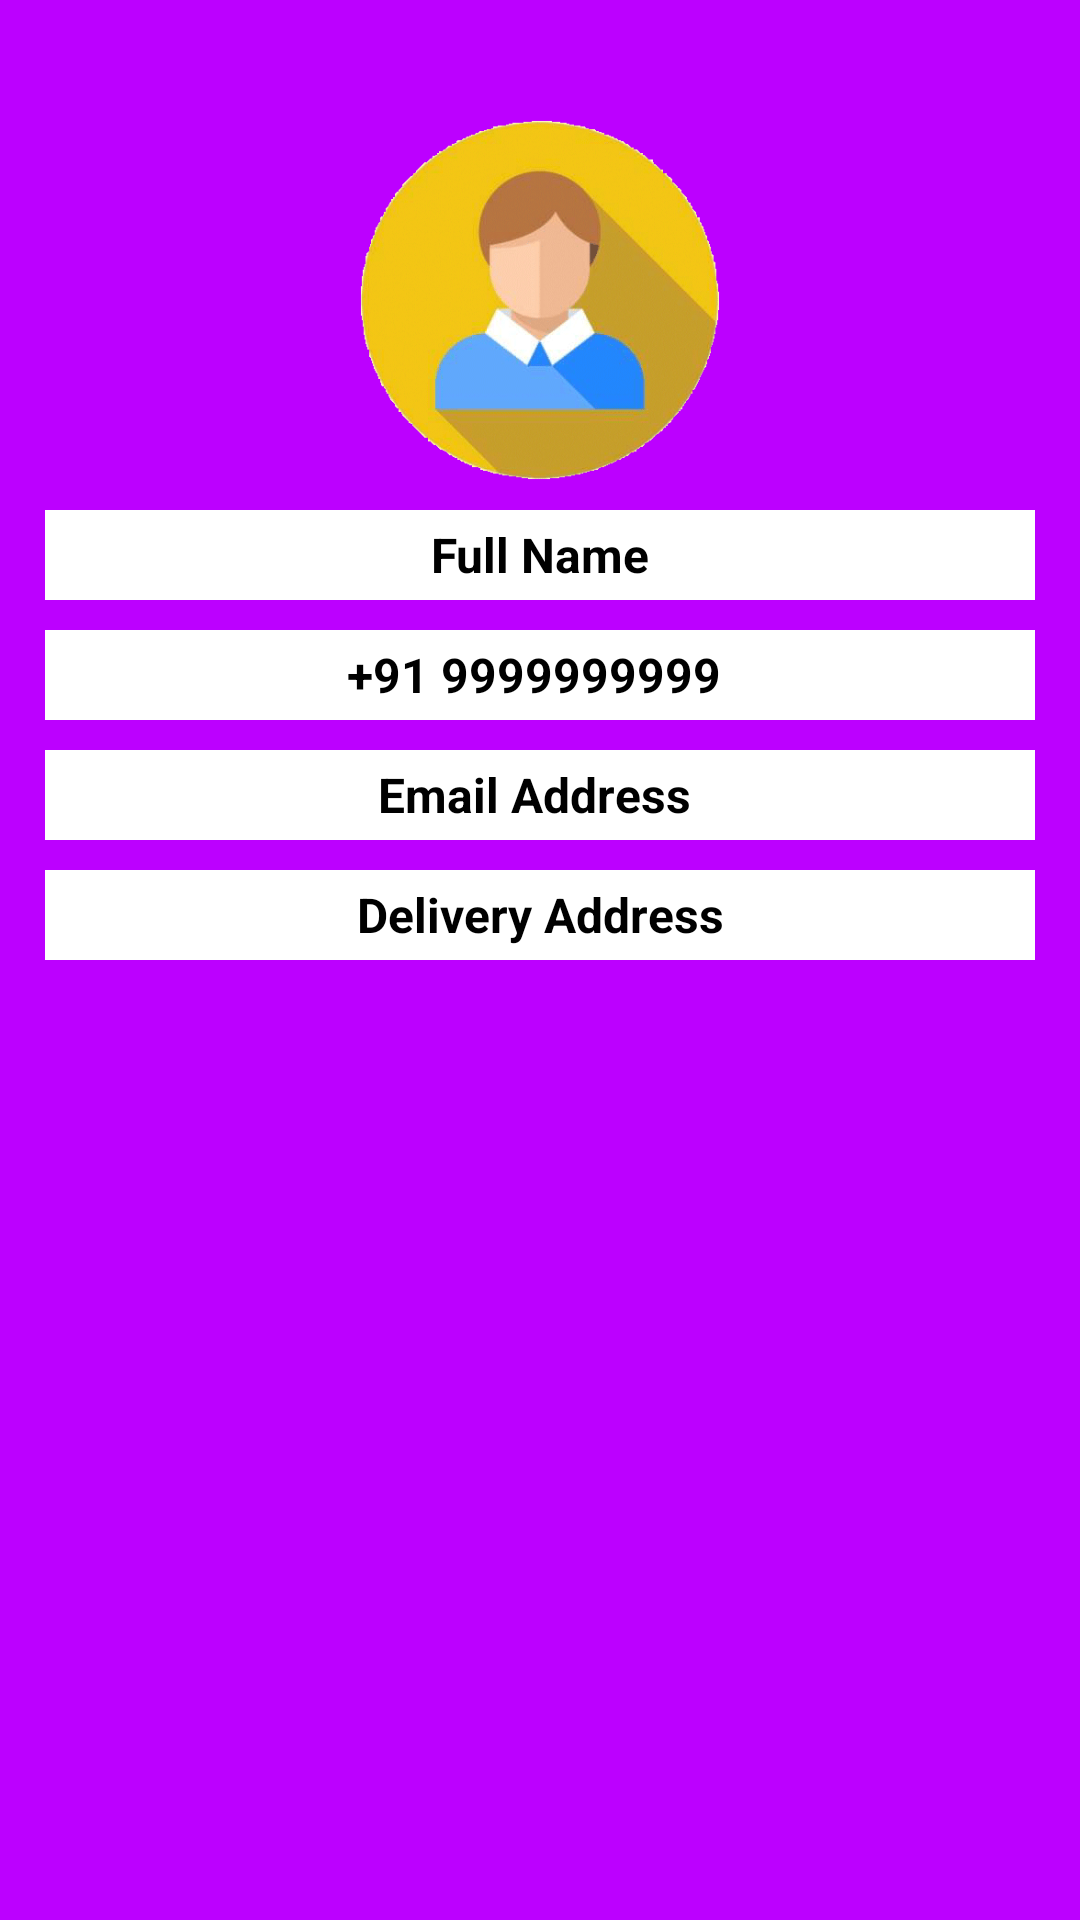

Icon click points for this 1080×1920 phone screenshot, format [x,y]:
user: [540,300]
